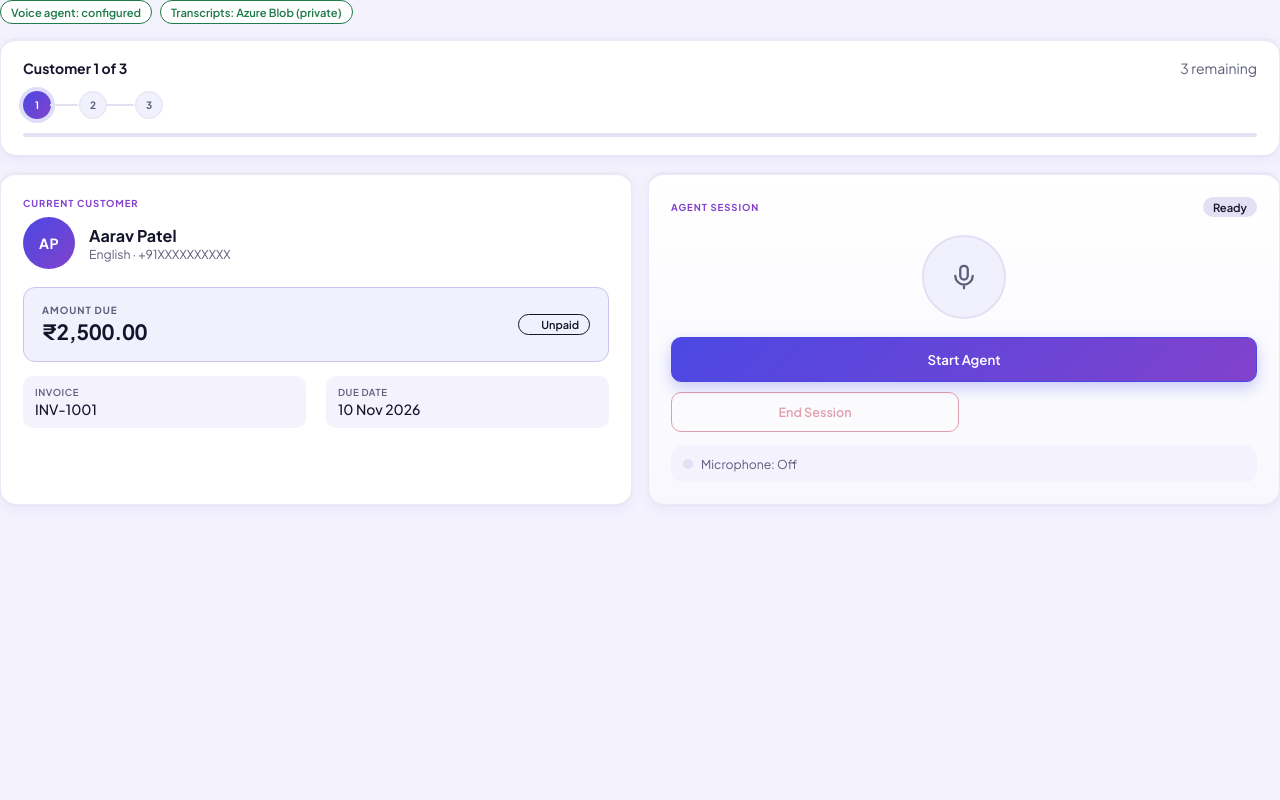
it: Dashboard › saves the session as failed when the voice connection is lost, keeping the customer
Later steps or results of the test are not shown.
Click the button "Start Agent" at (964, 360), box [671,337,1257,382]
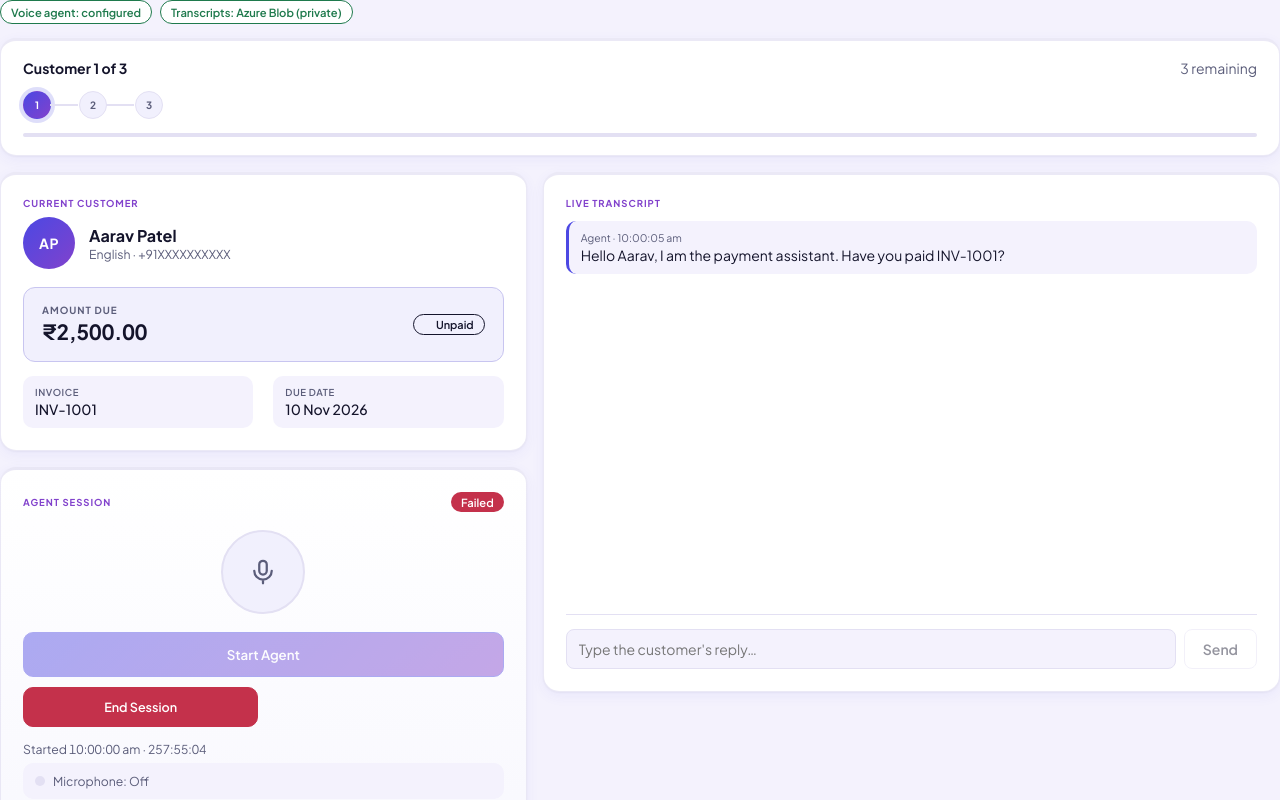
Result: the text with test id "session-status" reads "Failed" at [461,495,494,509]
Result: the button "End Session" is enabled
Result: the text "Hello Aarav, I am the payment assistant. Have you paid INV-1001?" is shown at [581,246,1005,264]
Click the button "End Session" at (141, 707), box [23,687,258,727]
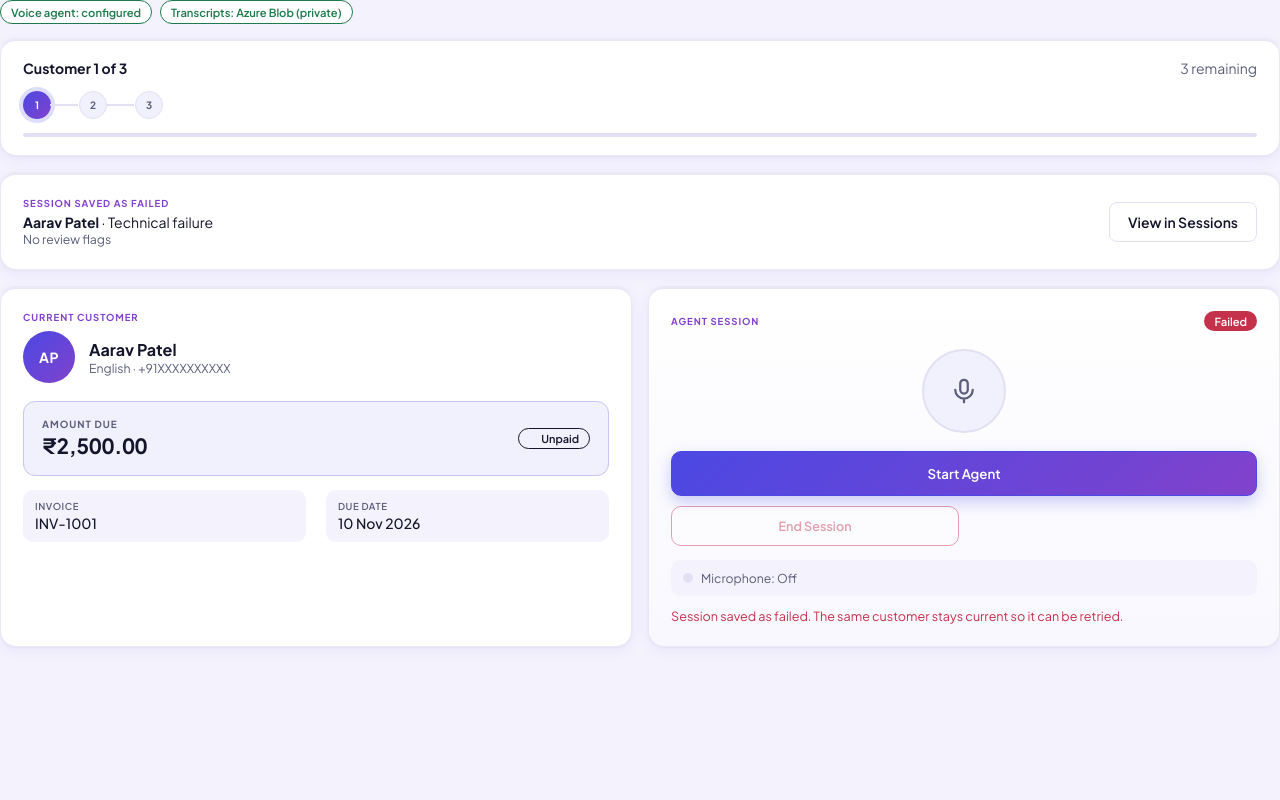
Expected: the text "Customer 1 of 3" is shown, [23,59,127,77]
Result: the message shows "saved as failed" at [671,608,1123,624]
Result: the button "Start Agent" is enabled at [671,451,1257,496]
